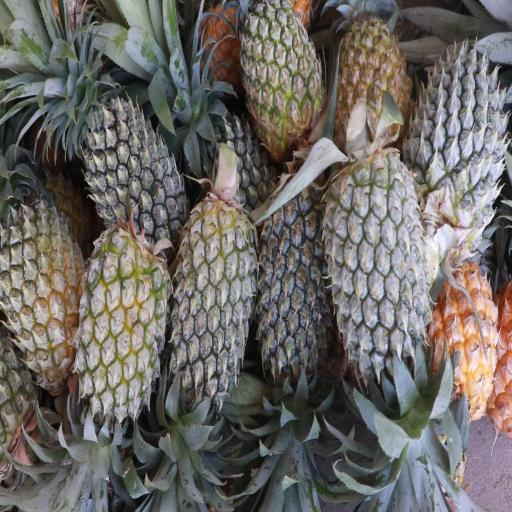------------------------------: (79, 230, 168, 418), (0, 194, 84, 376), (240, 0, 319, 156), (336, 0, 407, 145)
Pineapple - v8 v1: (431, 258, 499, 422)
